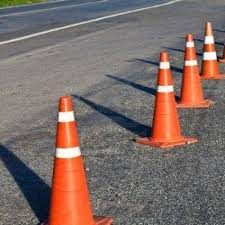cones: (33, 96, 121, 225), (137, 51, 198, 149), (173, 35, 209, 108), (199, 22, 225, 82)
